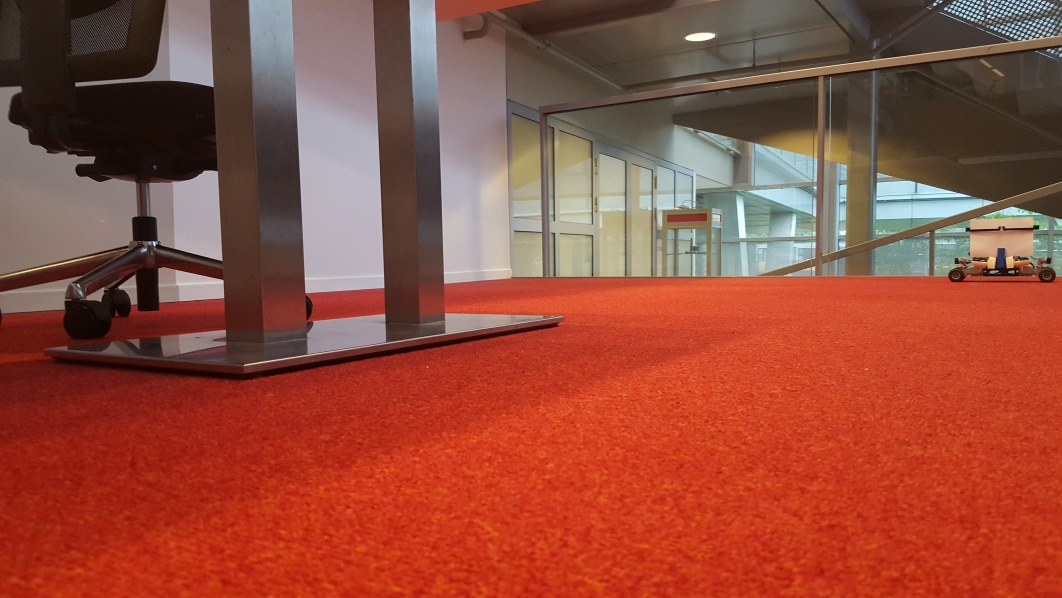car: (947, 216, 1056, 284)
